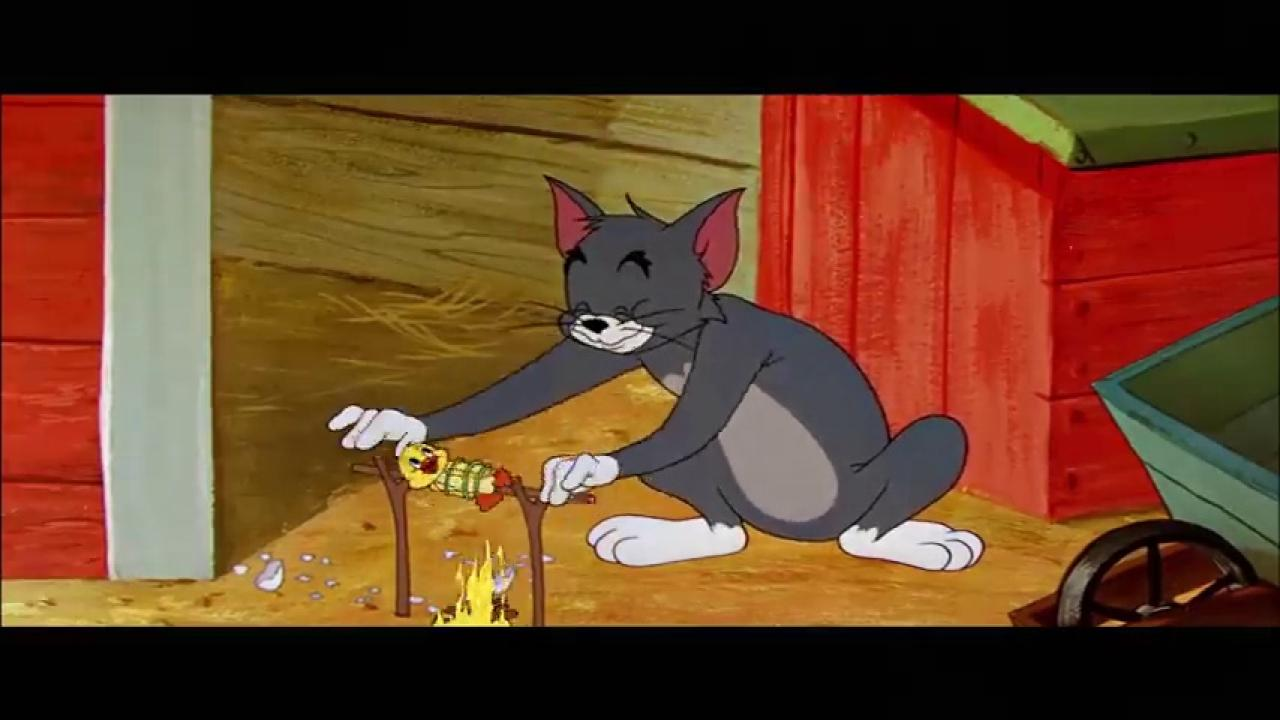Tom: (325, 172, 989, 572)
